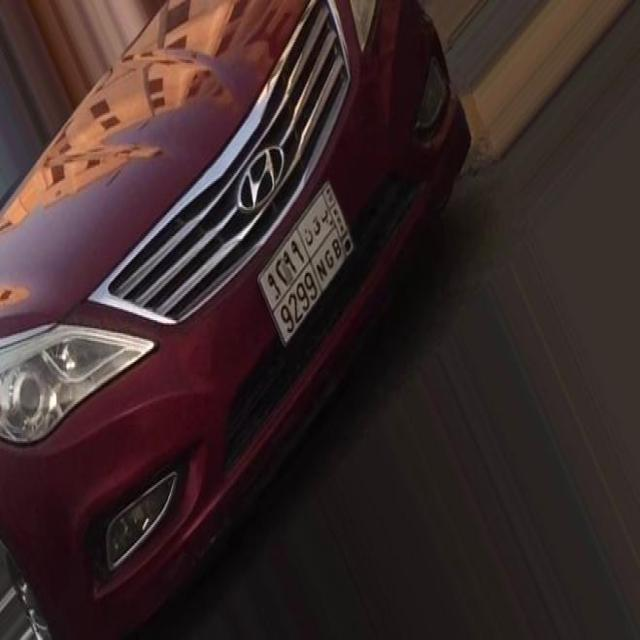Car-plate: (245, 160, 368, 360)
